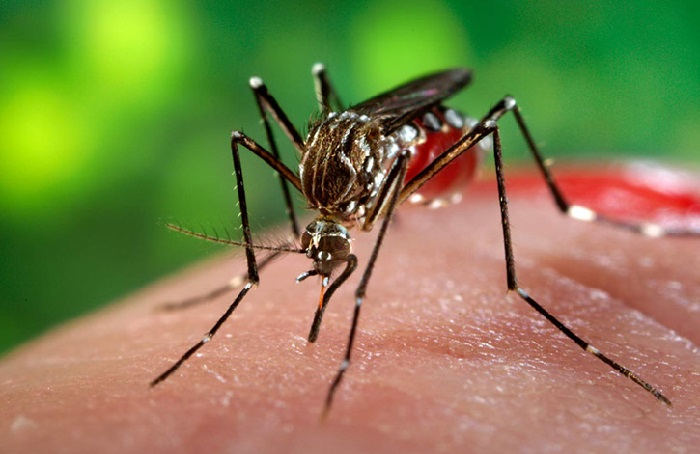dengue_mosquito: (152, 62, 671, 409)
